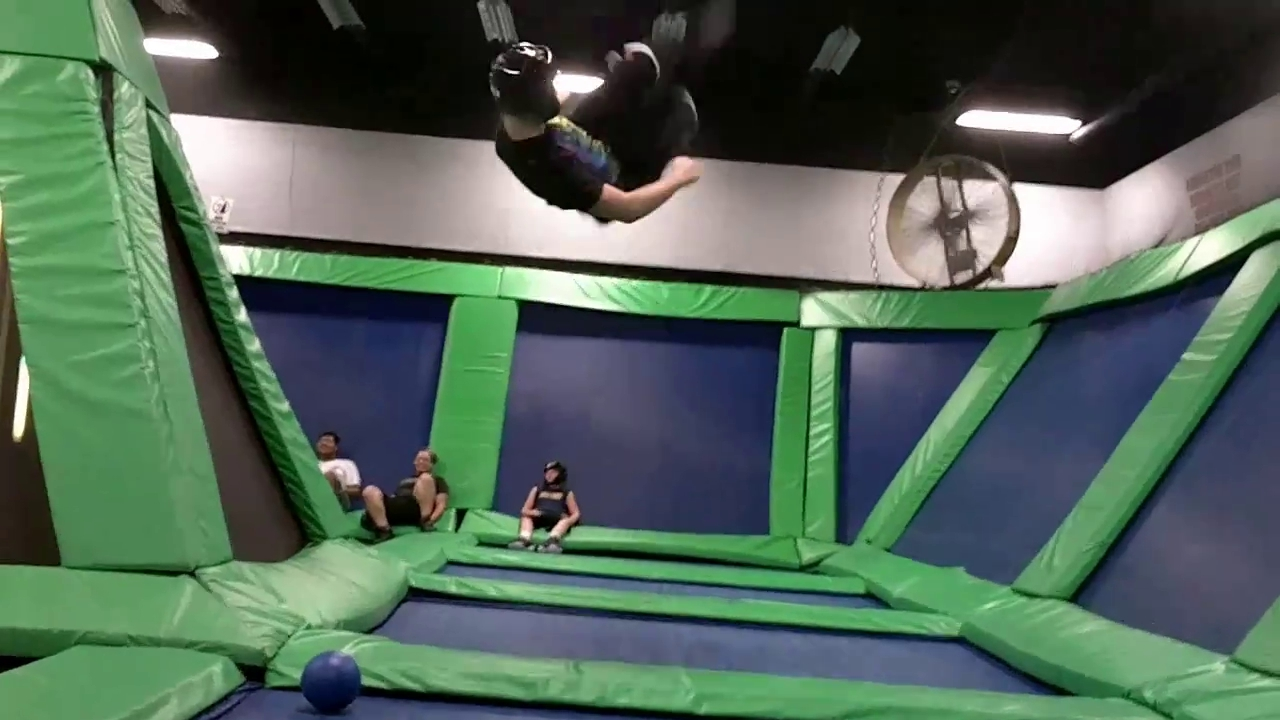person: (488, 12, 703, 226), (363, 449, 449, 546), (509, 462, 583, 556), (311, 432, 360, 510)
